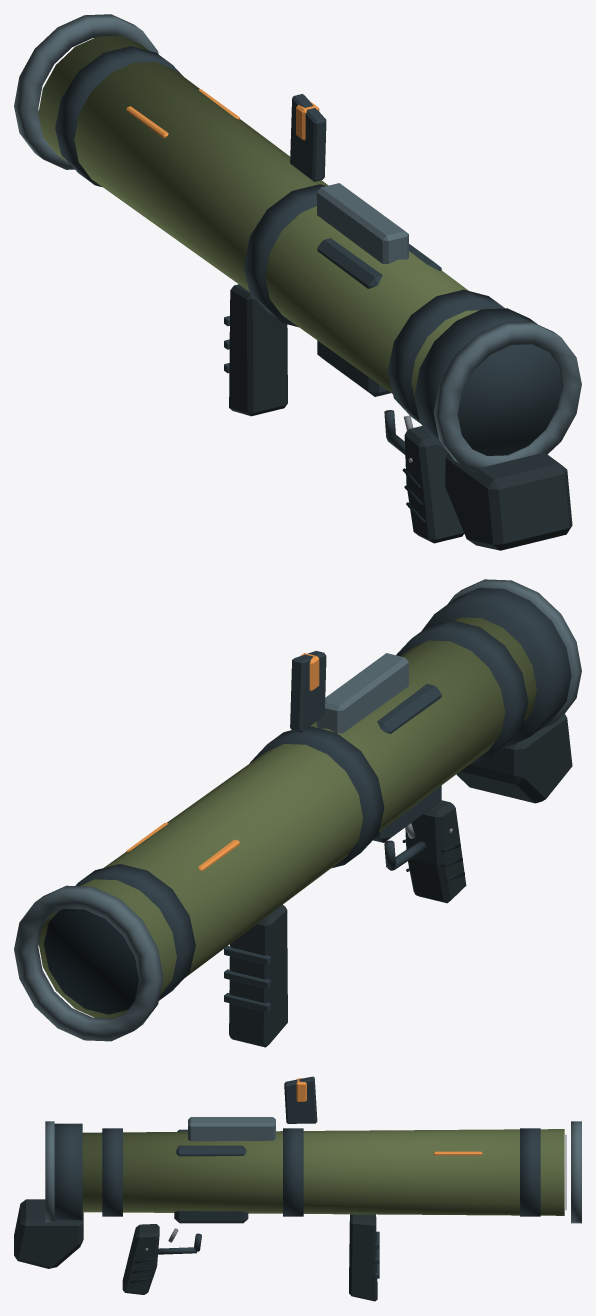
The model's file is WpnRocket.glb.
3 views of the same model, one above another, from view 1: azimuth 30°, elevation 25°; view 2: azimuth 150°, elevation 25°; view 3: azimuth 270°, elevation 25° (orthographic). The views are drawn at different scales.
Parts seen in each view (by area): view 1: WpnRocket; view 2: WpnRocket; view 3: WpnRocket.
Boxes of the visible parts, x1,y1,x2,y2 form: WpnRocket: (14,14,581,550); WpnRocket: (14,579,581,1047); WpnRocket: (14,1076,581,1301).
Bounding box in the file's own units: 0.188 × 0.4442 × 1.05.
